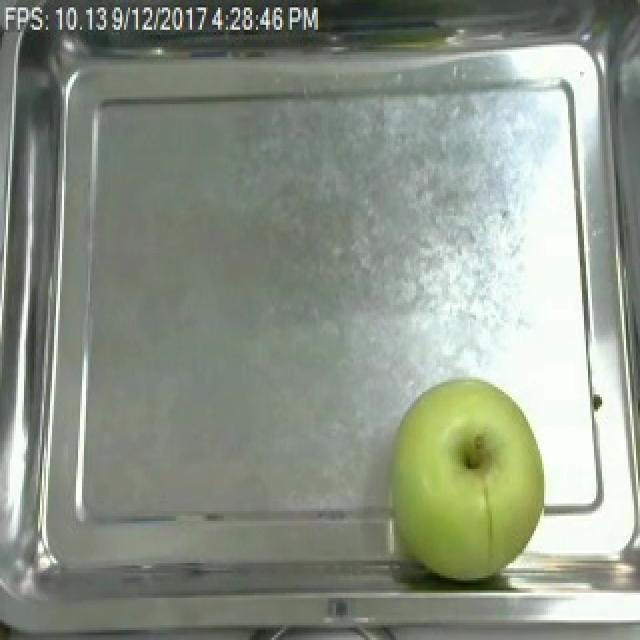50-_ripeness: (384, 373, 560, 589)
